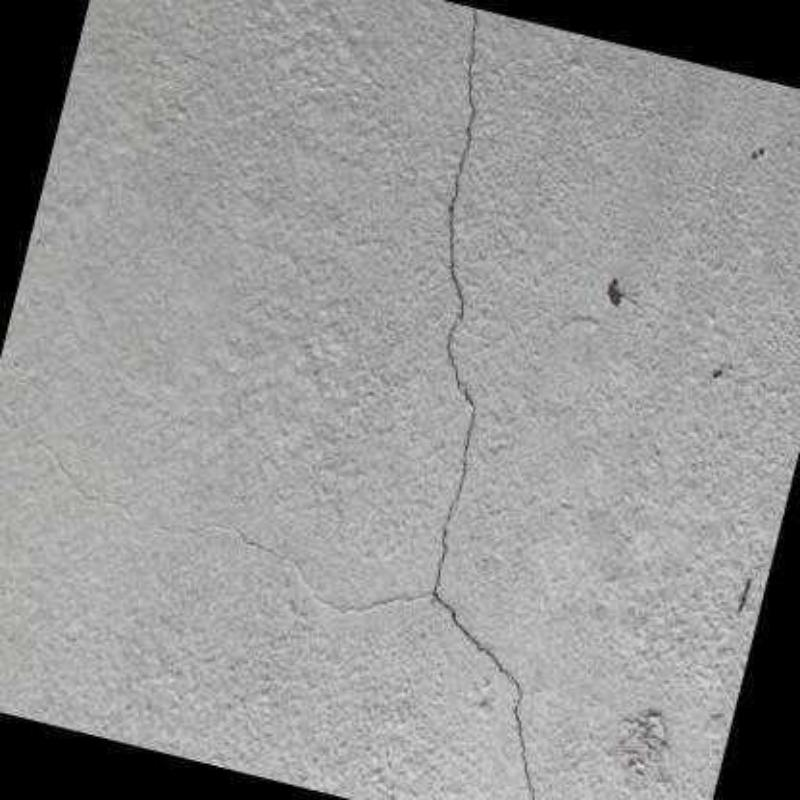pothole: (432, 6, 540, 798), (38, 441, 136, 525), (294, 562, 431, 615), (227, 523, 279, 558)
